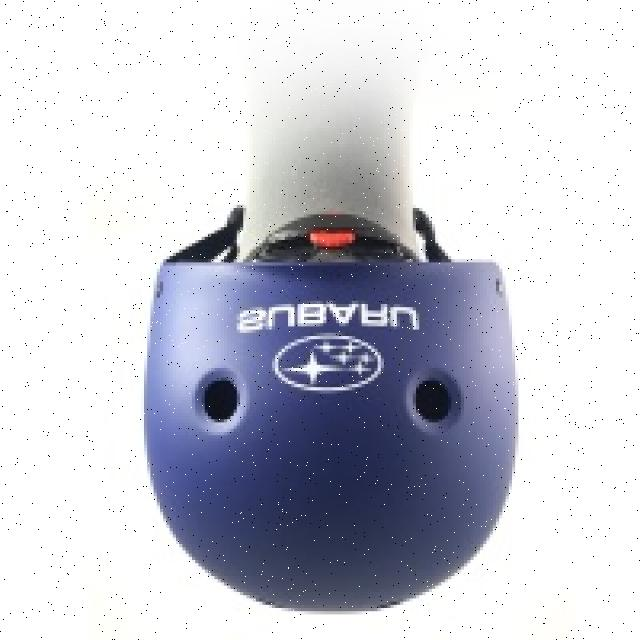Helmet: (145, 262, 516, 610)
